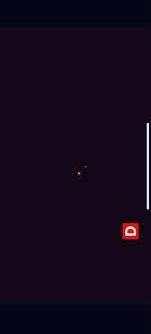Plane: (67, 156, 93, 184)
